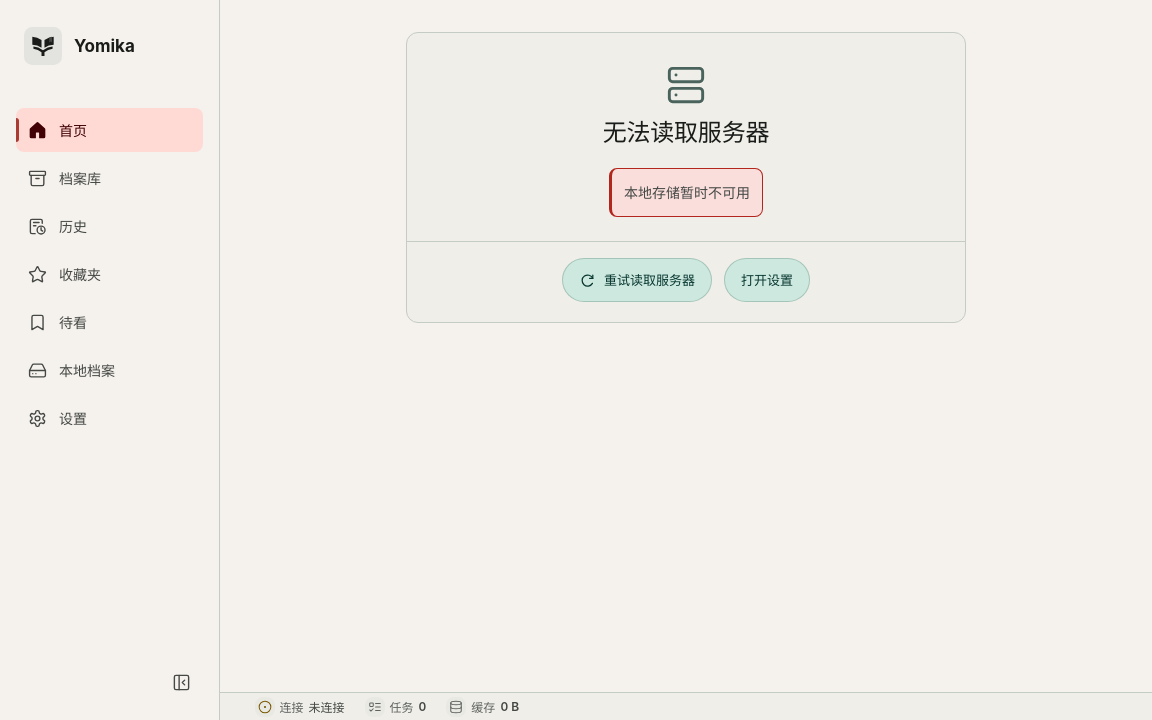
Test: application shell › retries a recoverable server load error from the home workspace
expect the message "本地存储暂时不可用" is shown: met, box left=609, top=168, right=763, bottom=217
Click the button "重试读取服务器". click: x=637, y=280
box: left=562, top=258, right=712, bottom=302
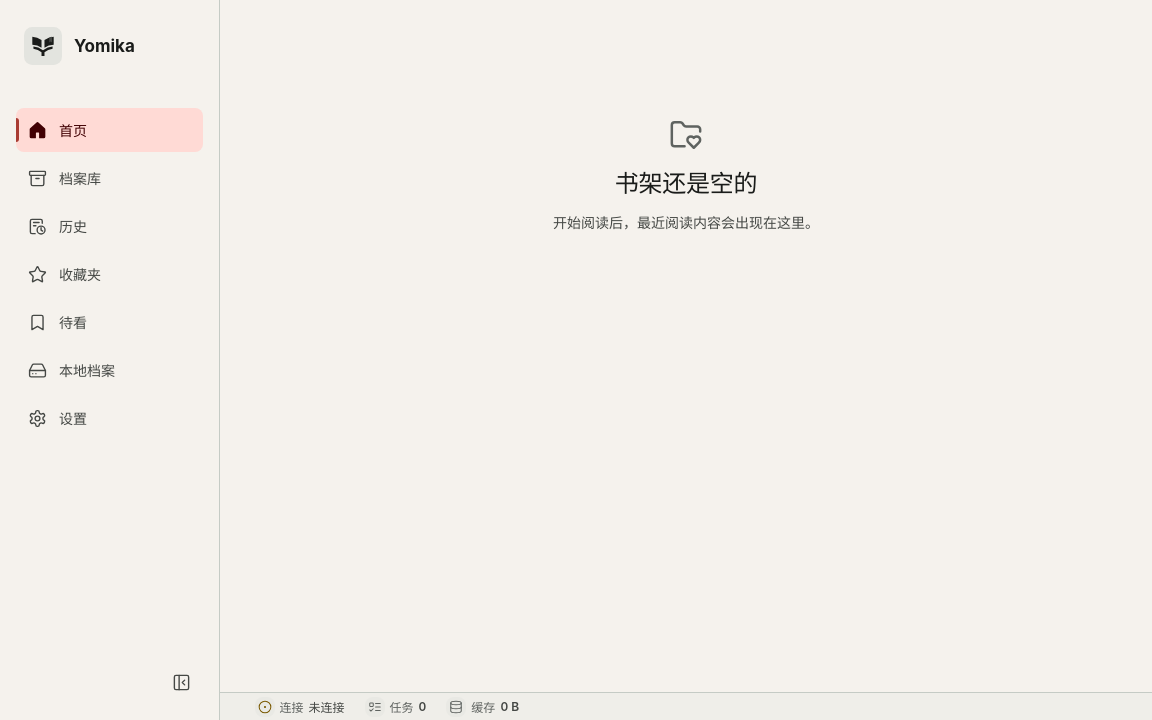
expect the heading "书架还是空的" is shown: met, box left=615, top=164, right=757, bottom=199
expect the message "本地存储暂时不可用" is gone: met
